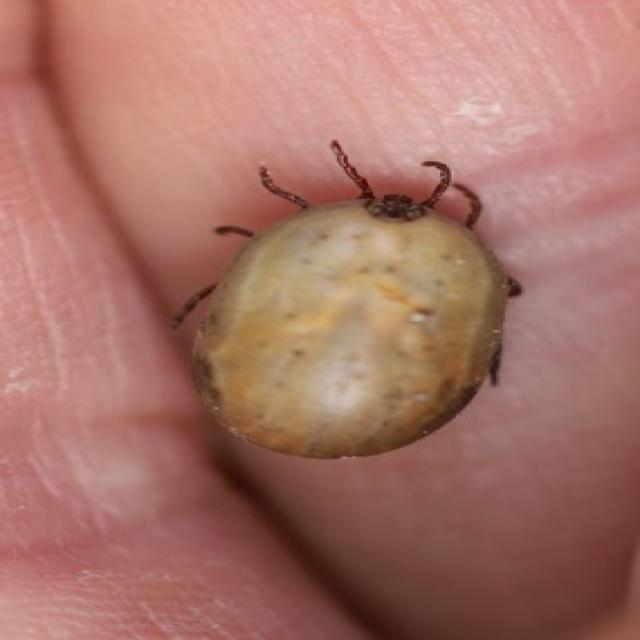Dermacentor Reticulatus-F-Fed: (171, 143, 523, 461)
